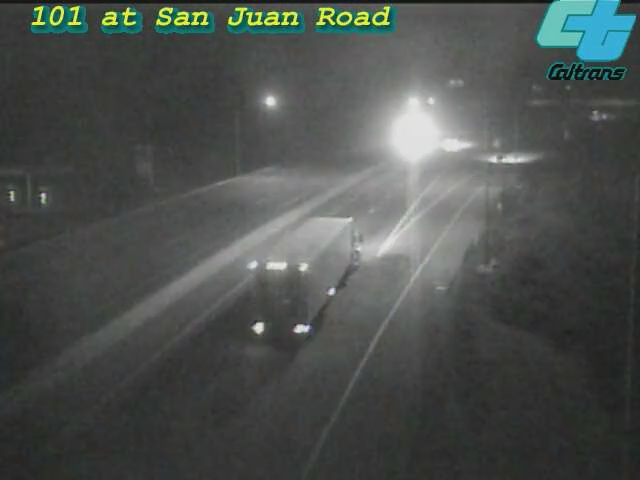vehicle: (273, 233, 353, 313), (390, 108, 440, 158), (573, 90, 623, 140), (431, 119, 481, 169), (478, 133, 528, 183)
